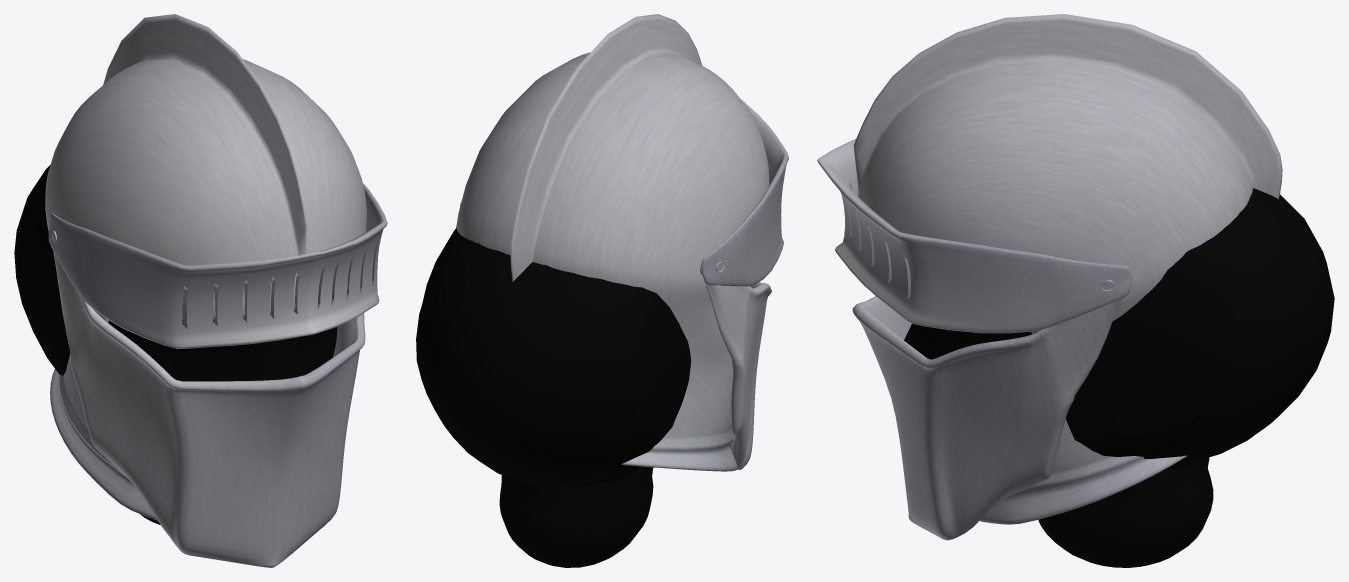
Rendered from helmet_2.glb.
3 renders of one model, left to right at view 1: azimuth 30°, elevation 25°; view 2: azimuth 150°, elevation 25°; view 3: azimuth 270°, elevation 25°, orthographic. The views are drawn at different scales.
Parts seen in each view (by area): view 1: Helm, Helmet_Mask; view 2: Helm, Helmet_Mask; view 3: Helm, Helmet_Mask.
Boxes of the visible parts, <box> form: Helm: <box>45,14,387,567</box>; Helmet_Mask: <box>14,165,337,524</box>; Helm: <box>456,14,788,471</box>; Helmet_Mask: <box>416,228,691,567</box>; Helm: <box>817,14,1282,540</box>; Helmet_Mask: <box>904,188,1334,567</box>.
Bounding box in the file's own units: 1.36 × 2.51 × 2.17.
Materials: 3 (1 with a texture image).
